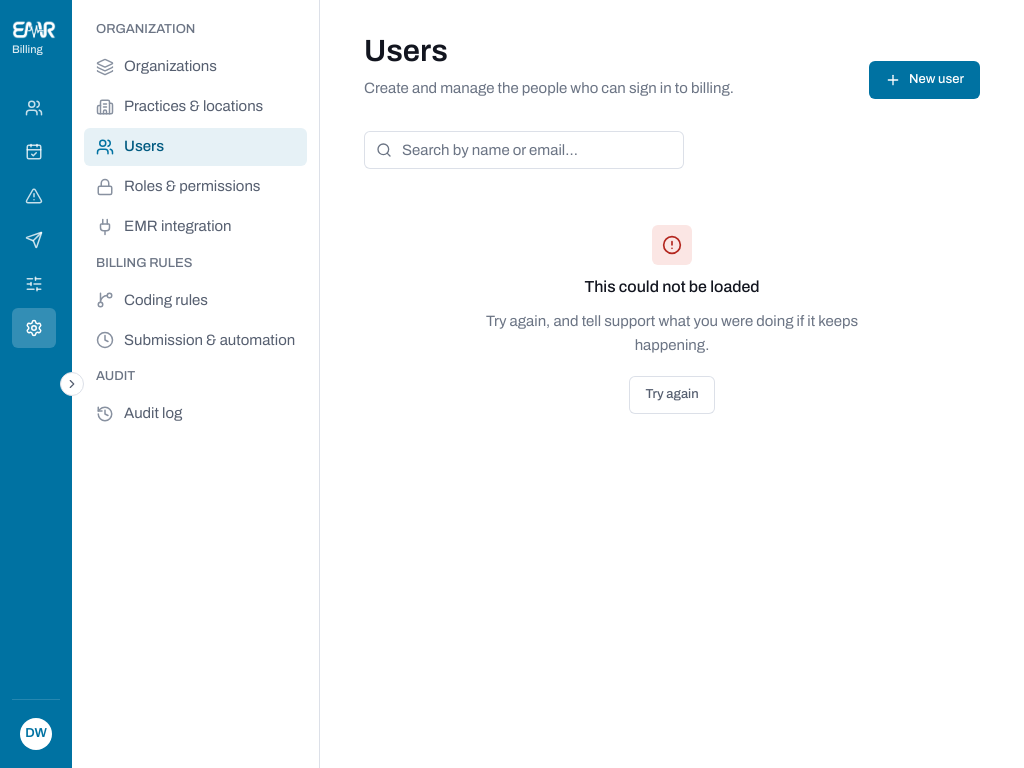
Test: change password dialog › sends the three passwords, closes, confirms, and keeps the user signed in
Click the button with aria-label "Account: Dana Whitfield" at (36, 734), box left=12, top=712, right=60, bottom=756
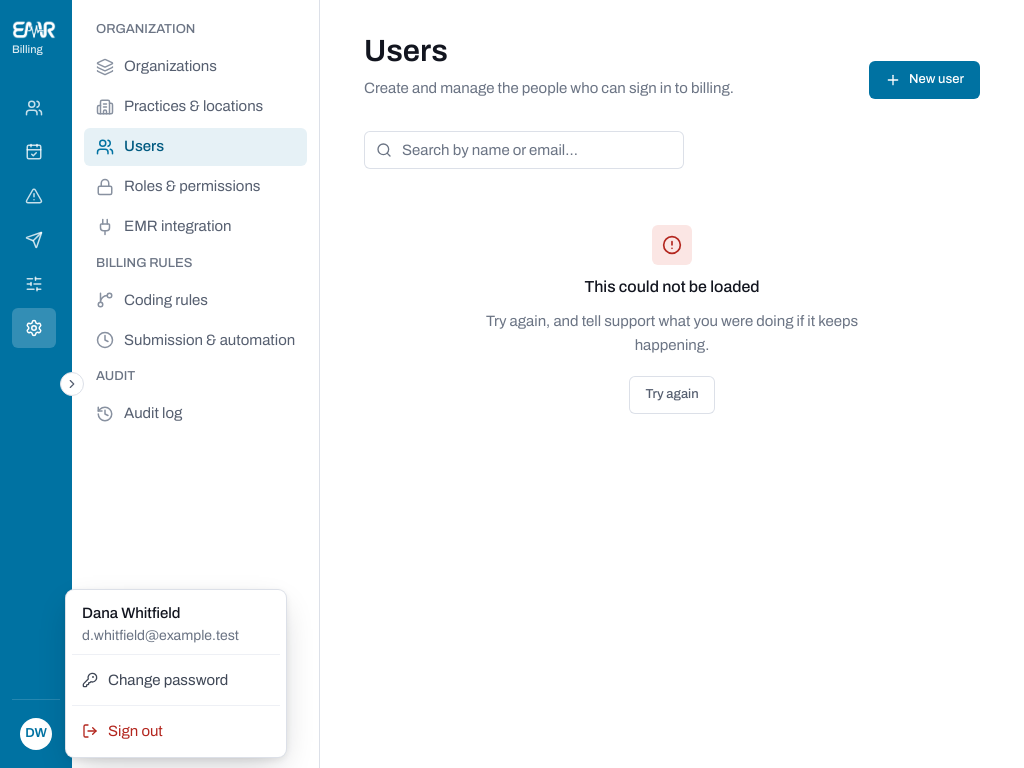
Click the menu item "Change password" at (155, 680), box left=82, top=672, right=228, bottom=688
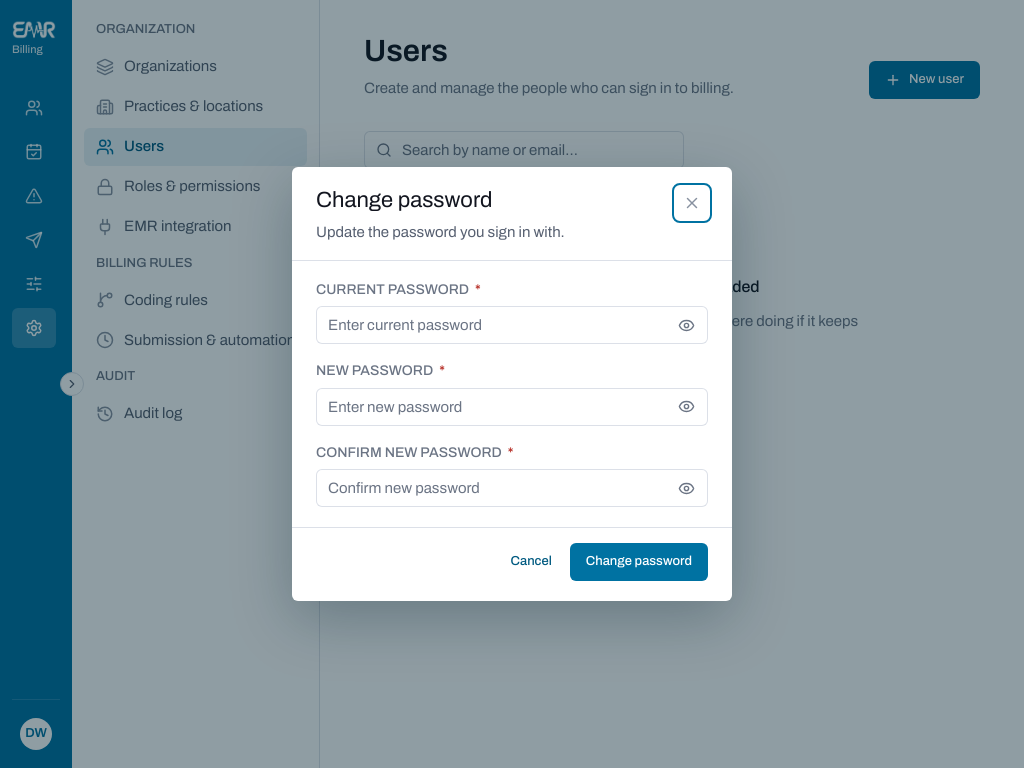
Type "old-pw" into the password field labelled "Current password *" at (494, 325), box left=328, top=306, right=660, bottom=344
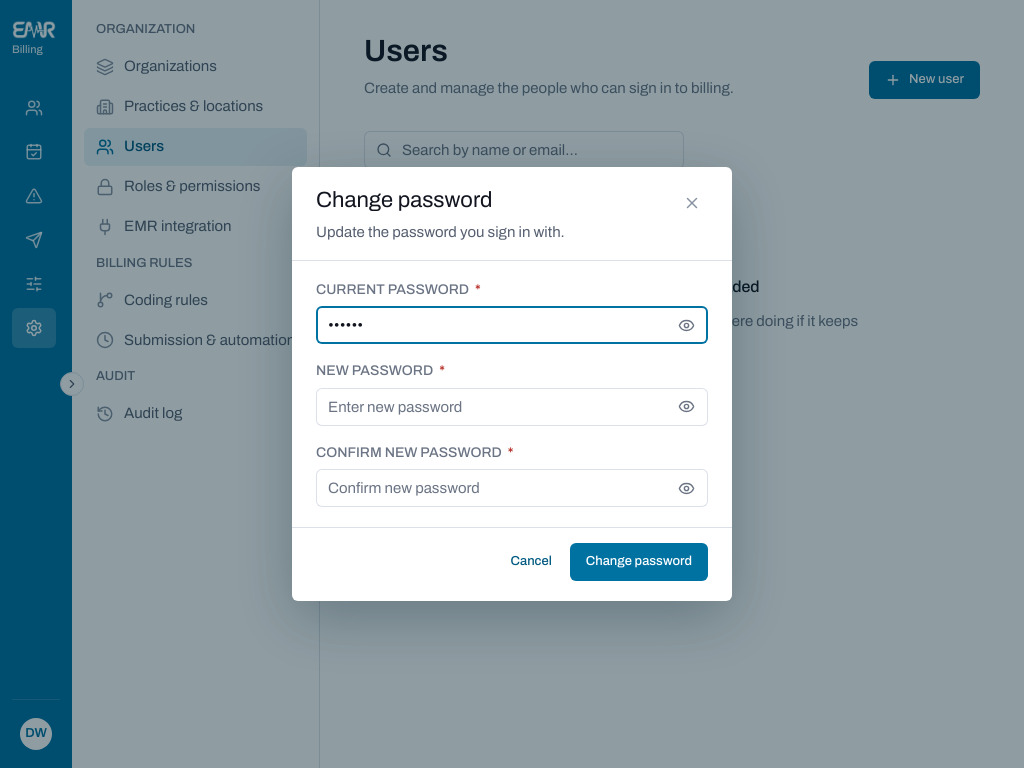
Type "new-pw" into the password field labelled "New password *" at (494, 407), box left=328, top=388, right=660, bottom=426
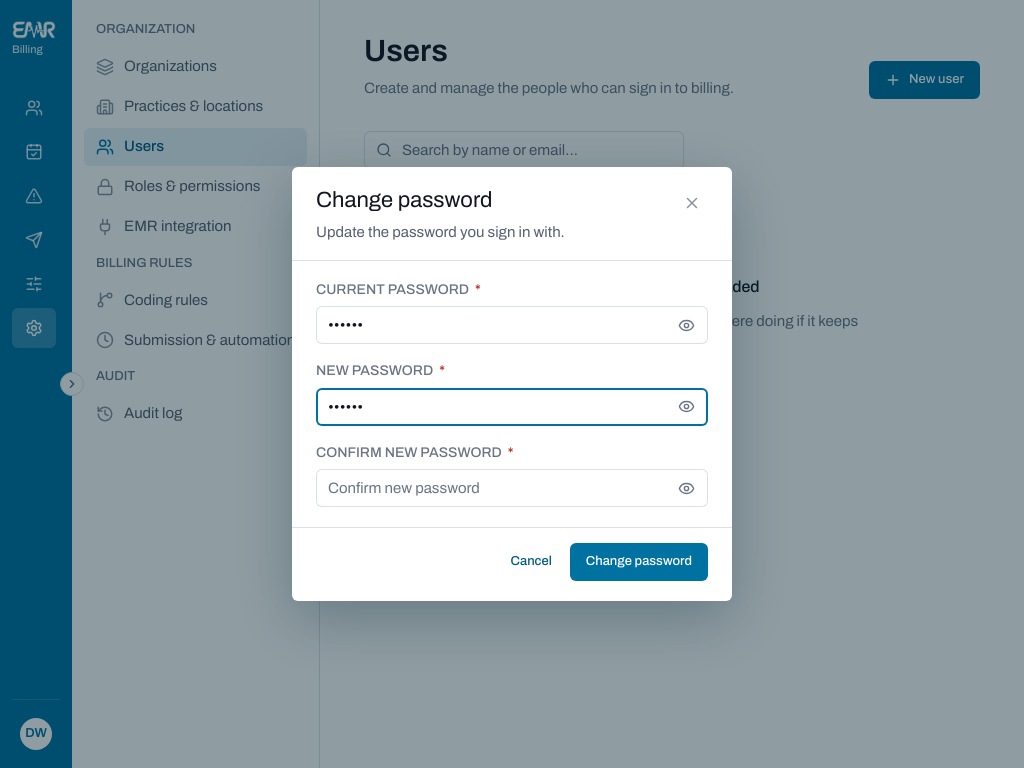
Type "new-pw" into the password field labelled "Confirm new password *" at (494, 488), box left=328, top=469, right=660, bottom=507
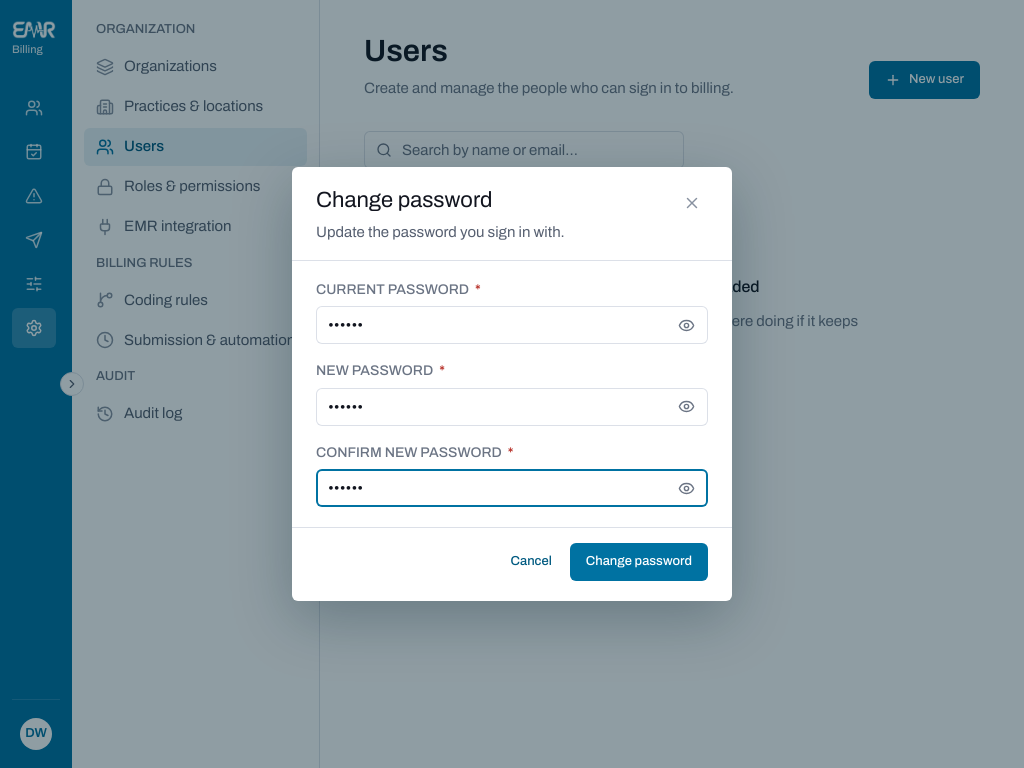
Click the button "Change password" at (639, 562), box left=570, top=543, right=708, bottom=581
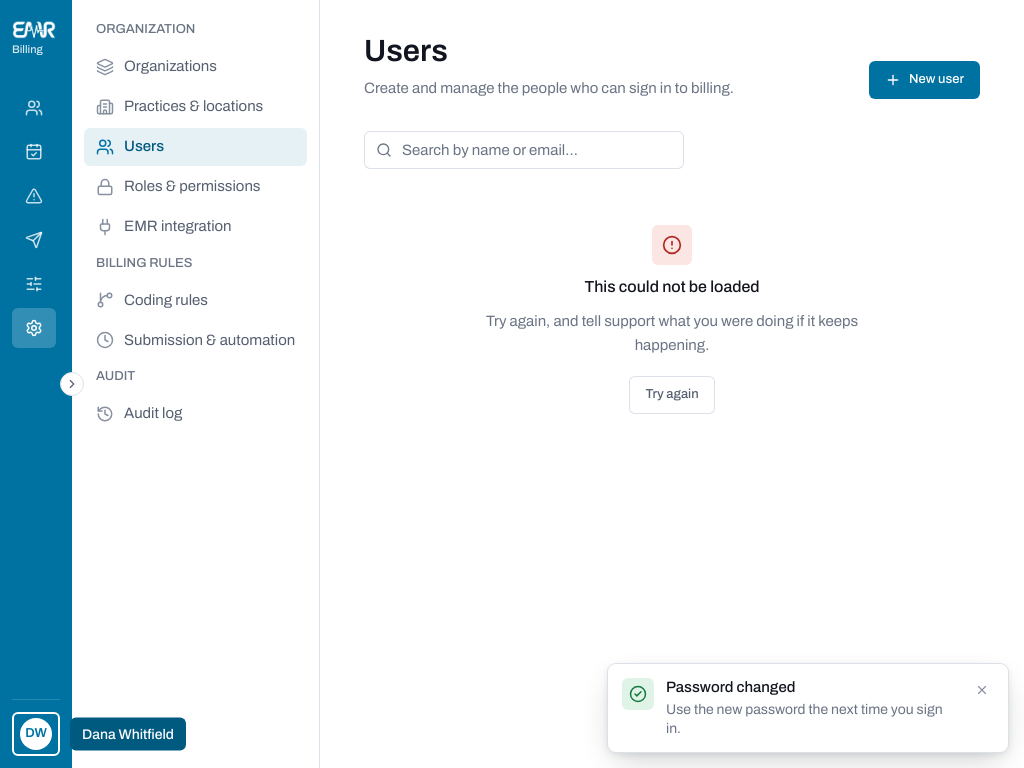
Check: the dialog is gone
Check: the message "Password changed Use the new password the next time you sign in." is shown, box left=608, top=664, right=1008, bottom=752
